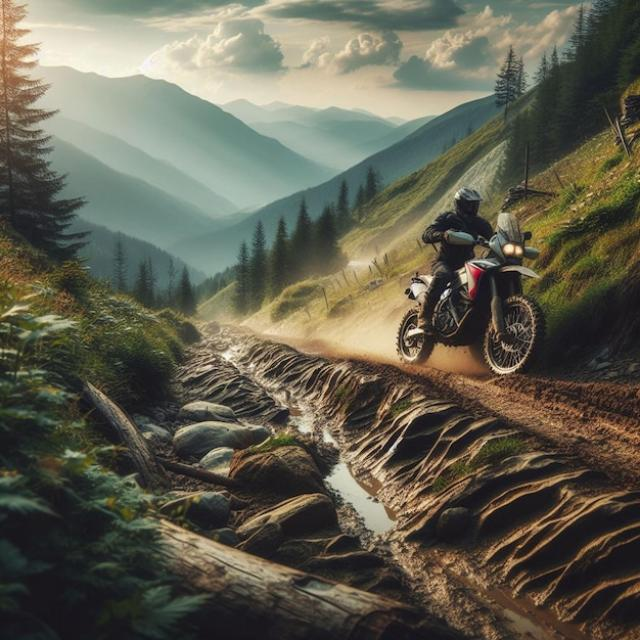Bike: (397, 232, 540, 372)
